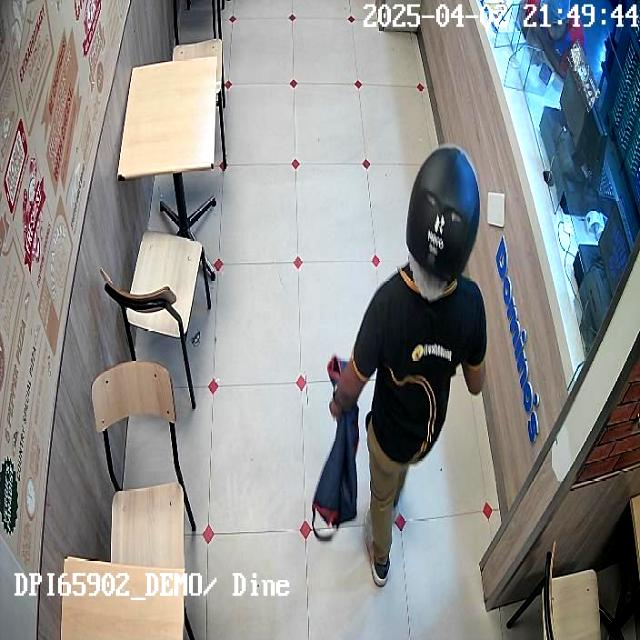helmet: (405, 145, 481, 282)
